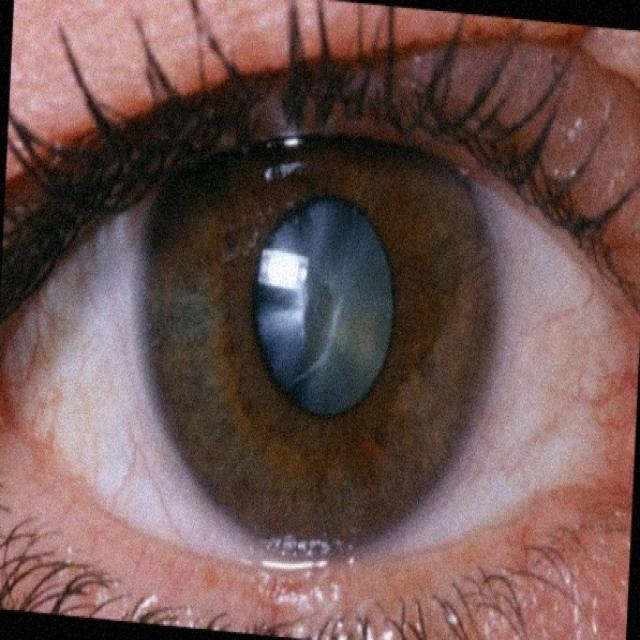Cataract: (36, 38, 541, 608)
